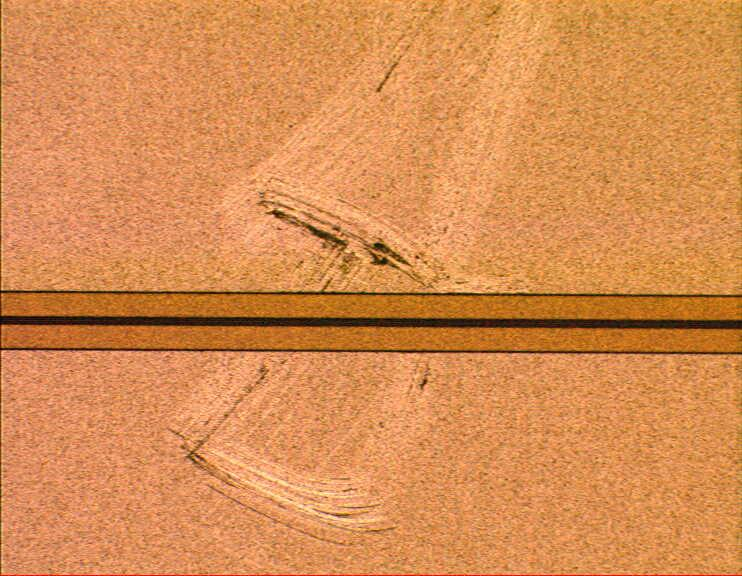SCRATCH: (162, 1, 576, 552)
